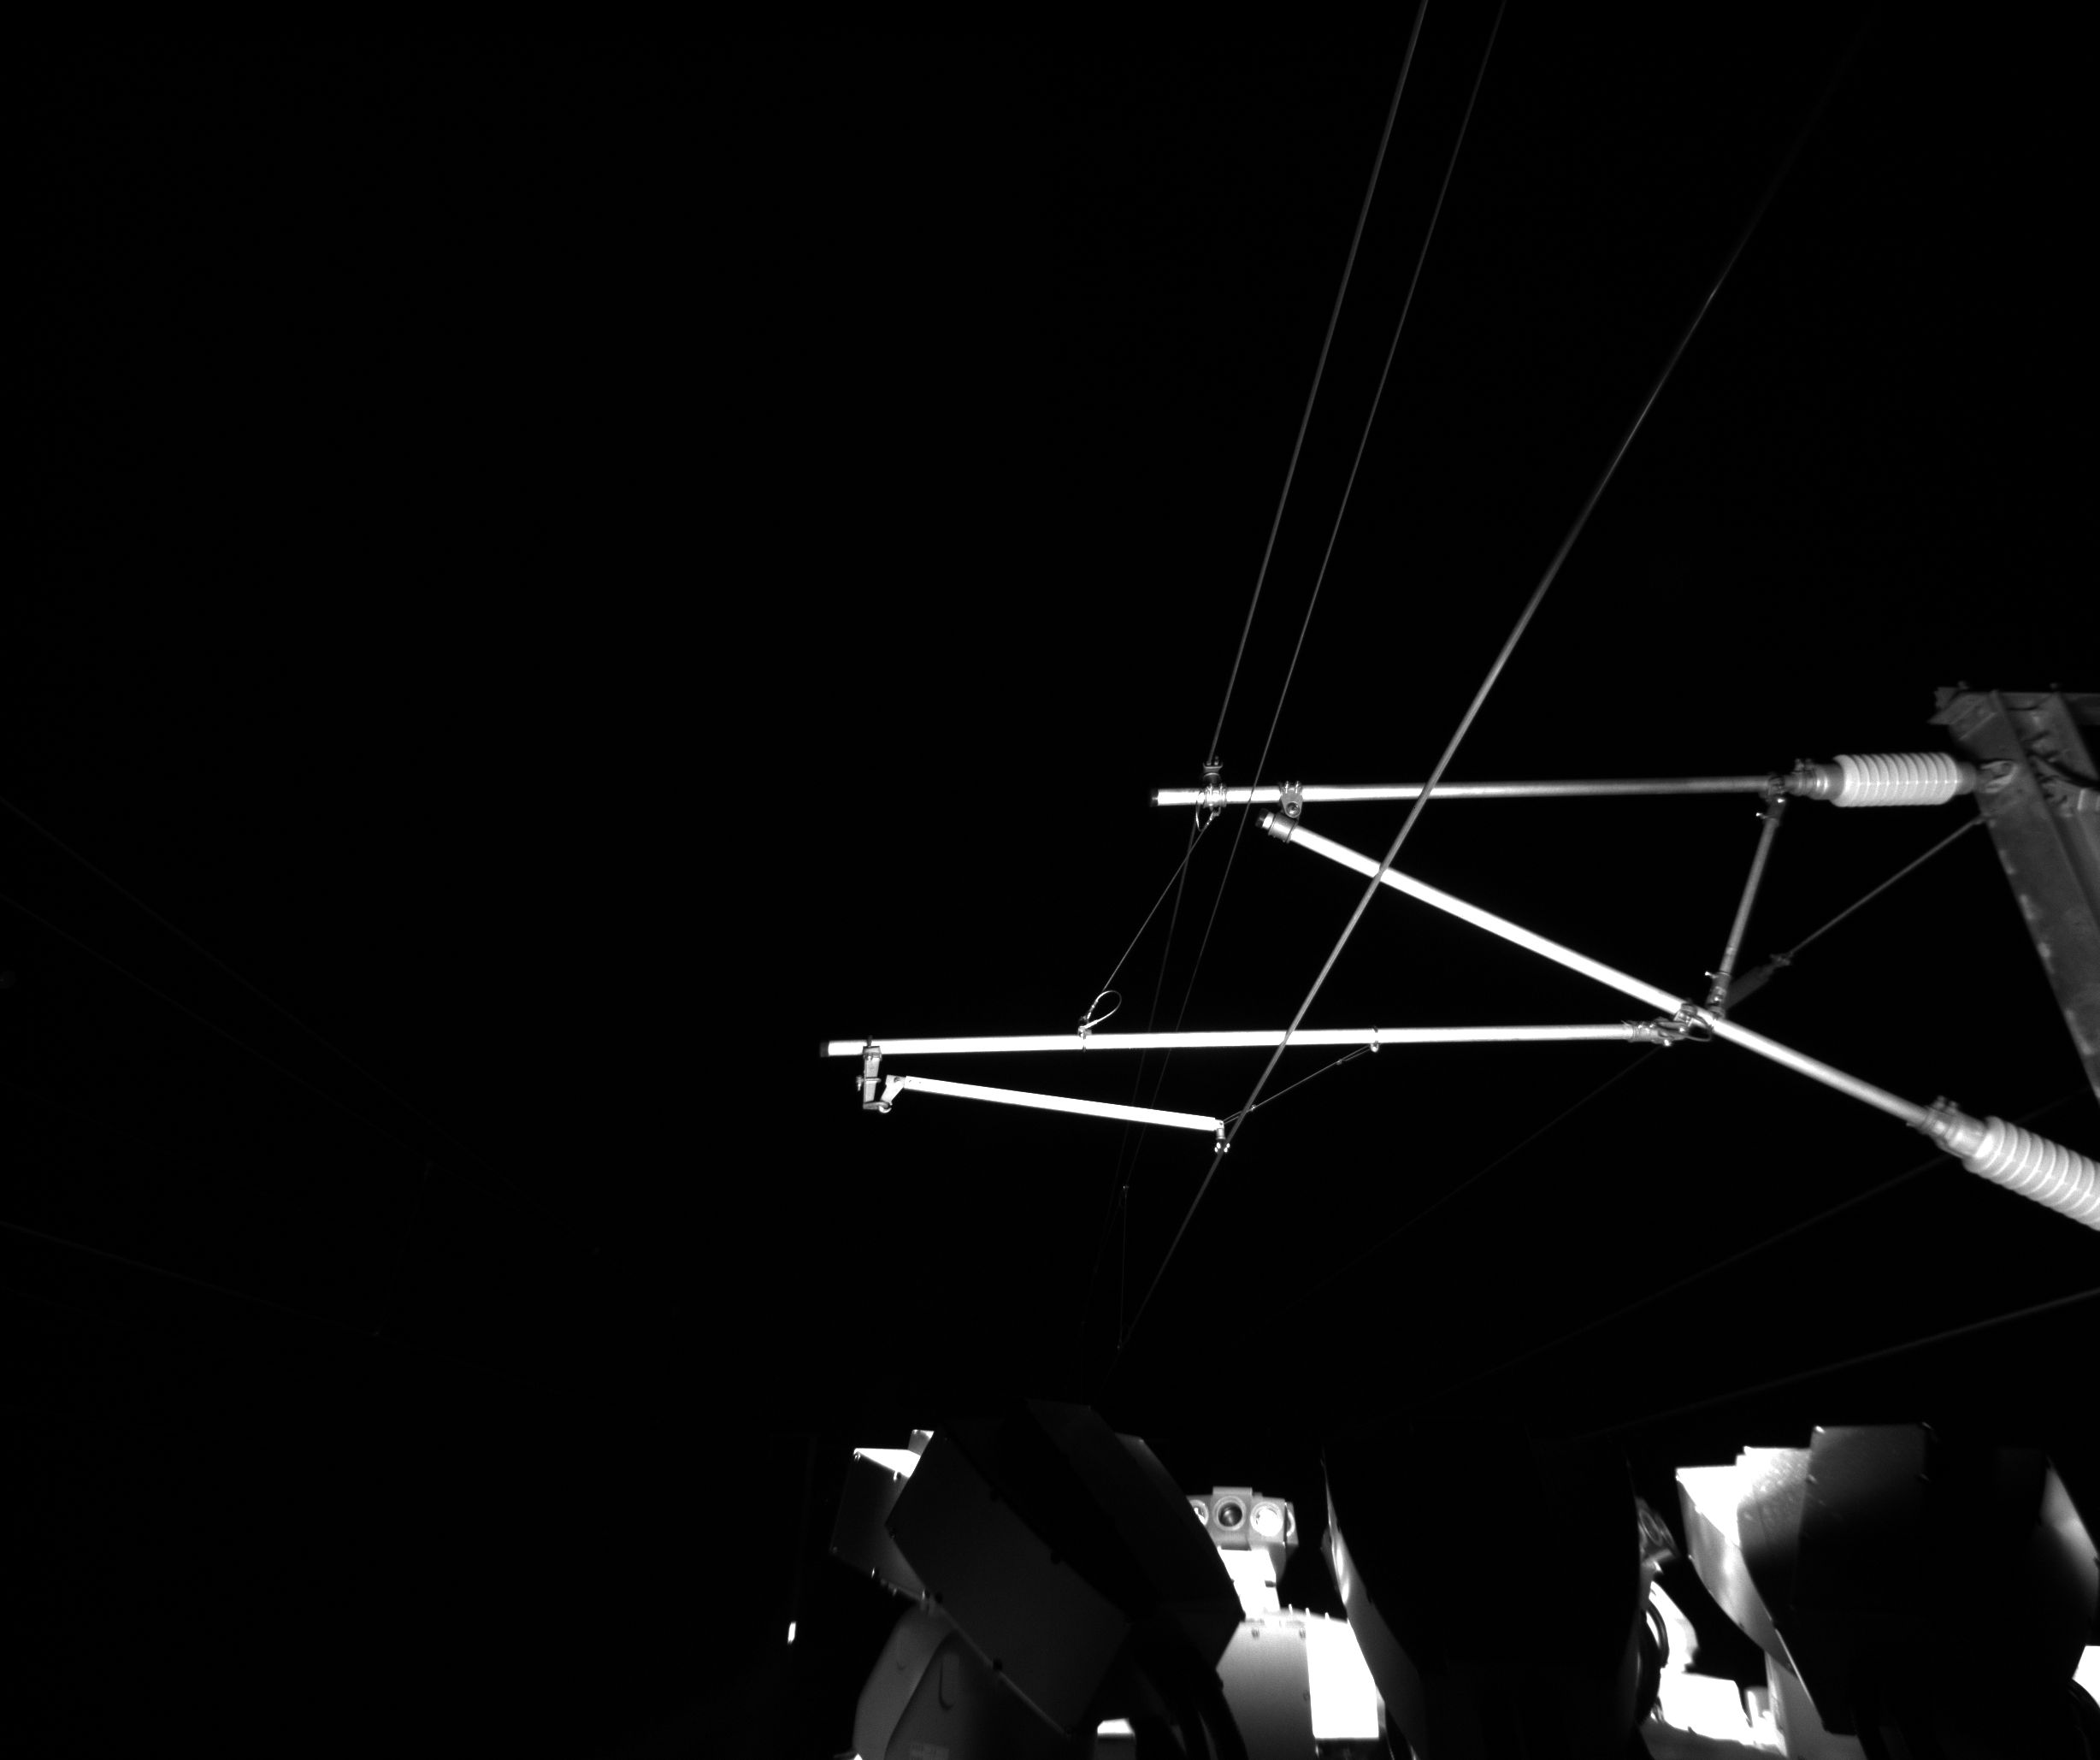cls: (1185, 753, 1238, 819)
dwq: (841, 1030, 911, 1116)
jyz: (1807, 742, 1974, 812)
tgsr: (1246, 768, 1316, 845)
xj: (1194, 1117, 1248, 1170)
xjyz: (1915, 1090, 2100, 1234)
xlxj: (1063, 983, 1128, 1048)
xzsr: (1627, 995, 1719, 1058)
